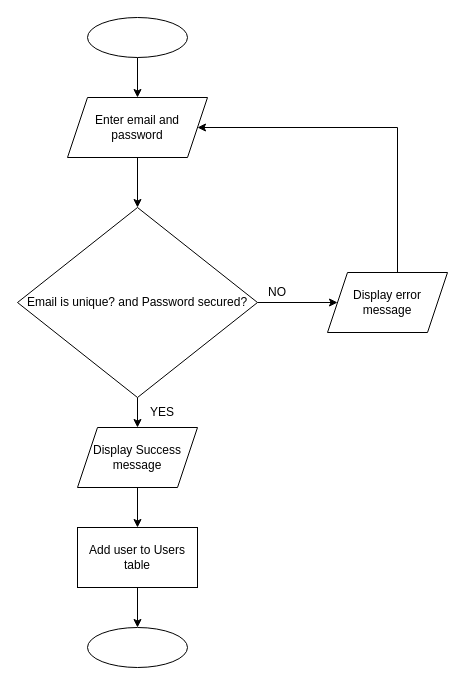
The diagram is 465 pixels wide and 685 high, and some of its shapes have lost their labels. Each missing label, with the box of its shape:
End: (86, 626, 188, 668)
Start: (86, 16, 188, 58)
